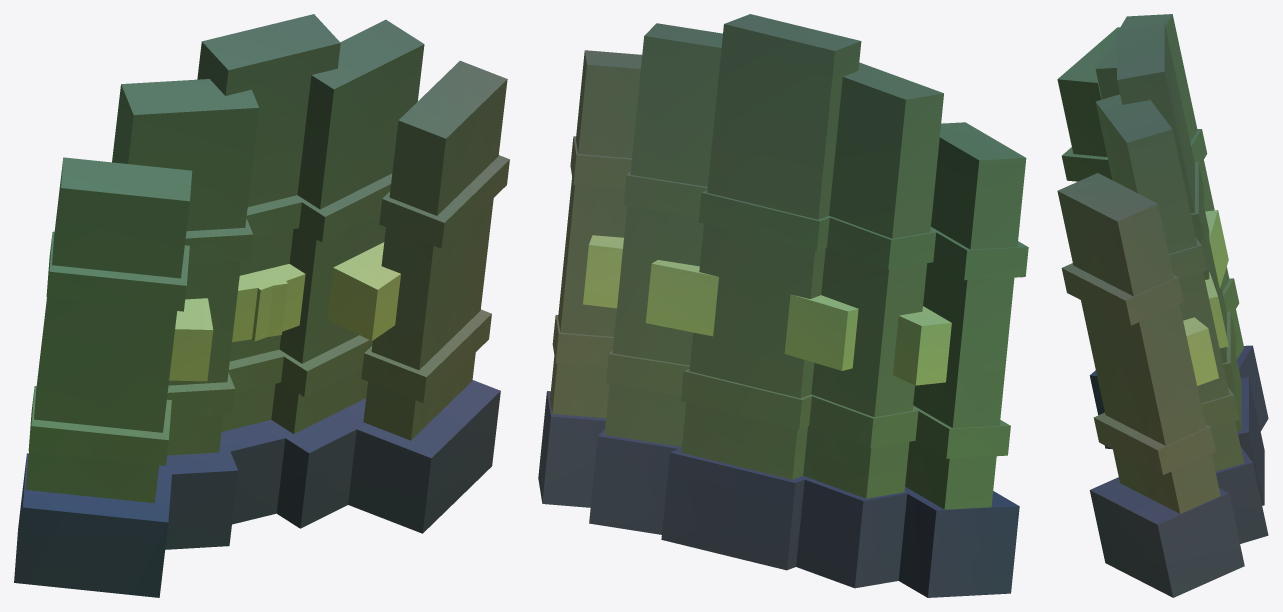
The model's file is bell_fragment.glb.
3 renders of one model, left to right at view 1: azimuth 30°, elevation 25°; view 2: azimuth 150°, elevation 25°; view 3: azimuth 270°, elevation 25°, orthographic. The views are drawn at different scales.
Parts seen in each view (by area): view 1: frag_wall, frag_lip, frag_inscr; view 2: frag_wall, frag_lip, frag_inscr; view 3: frag_wall, frag_lip, frag_inscr.
Boxes of the visible parts, x1,y1,x2,y2 form: frag_wall: [26, 14, 509, 503]; frag_lip: [14, 380, 500, 597]; frag_inscr: [169, 242, 400, 381]; frag_wall: [550, 14, 1028, 509]; frag_lip: [538, 391, 1019, 597]; frag_inscr: [583, 235, 951, 385]; frag_wall: [1057, 14, 1244, 513]; frag_lip: [1089, 345, 1268, 597]; frag_inscr: [1183, 210, 1228, 385].
Bounding box in the file's own units: 0.5278 × 0.5421 × 0.2262.
